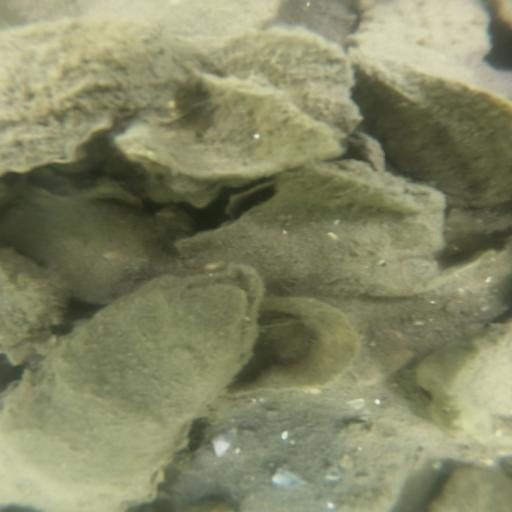Oyster-Closed: (177, 165, 443, 298), (1, 15, 197, 172), (171, 390, 411, 512), (350, 40, 509, 203), (185, 26, 370, 152), (4, 189, 162, 299), (365, 1, 498, 82), (86, 1, 287, 47), (5, 248, 66, 354), (421, 467, 512, 512)
Oyster-Open: (12, 264, 273, 494)
